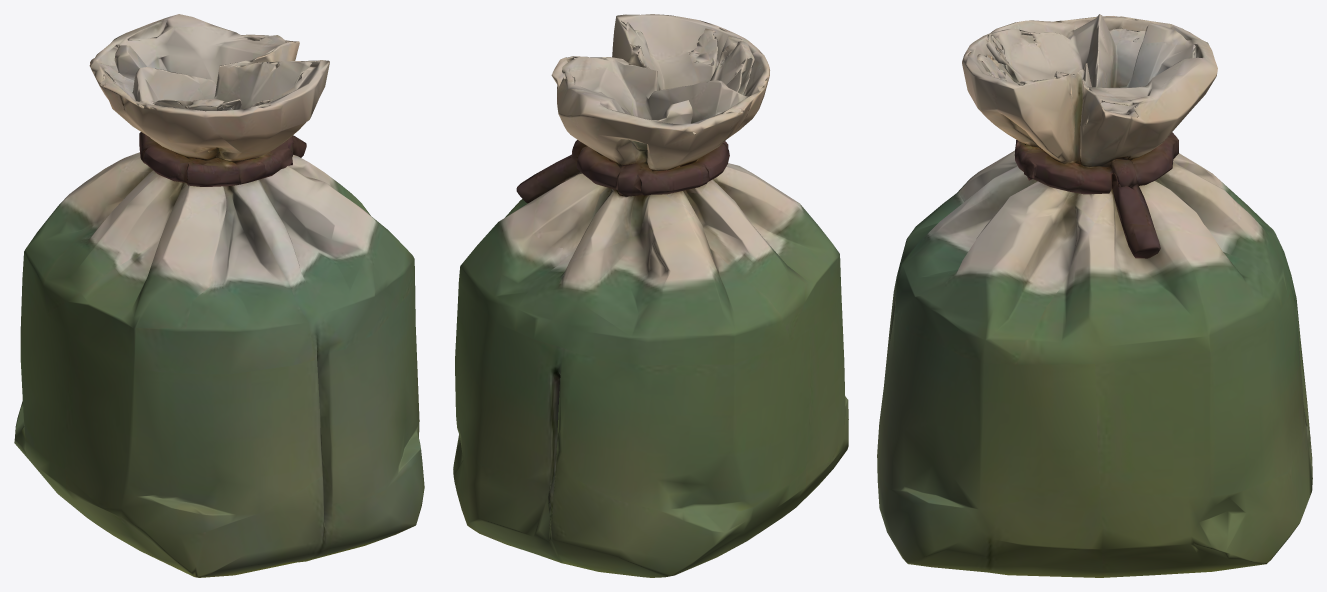
File: sack.glb
3 renders of one model, left to right at view 1: azimuth 30°, elevation 25°; view 2: azimuth 150°, elevation 25°; view 3: azimuth 270°, elevation 25°, orthographic. The views are drawn at different scales.
Visible parts, largest first — view 1: tripo_node_79cb0f7e-0560-4ee1-ba9a-b9de7aedd81f; view 2: tripo_node_79cb0f7e-0560-4ee1-ba9a-b9de7aedd81f; view 3: tripo_node_79cb0f7e-0560-4ee1-ba9a-b9de7aedd81f.
Boxes of the visible parts, box(x1,y1,x2,y2) form: tripo_node_79cb0f7e-0560-4ee1-ba9a-b9de7aedd81f: box(14, 14, 424, 577); tripo_node_79cb0f7e-0560-4ee1-ba9a-b9de7aedd81f: box(453, 14, 848, 577); tripo_node_79cb0f7e-0560-4ee1-ba9a-b9de7aedd81f: box(877, 14, 1312, 577).
Bounding box in the file's own units: 0.717 × 1 × 0.8124.
1 material, 1 textured.
